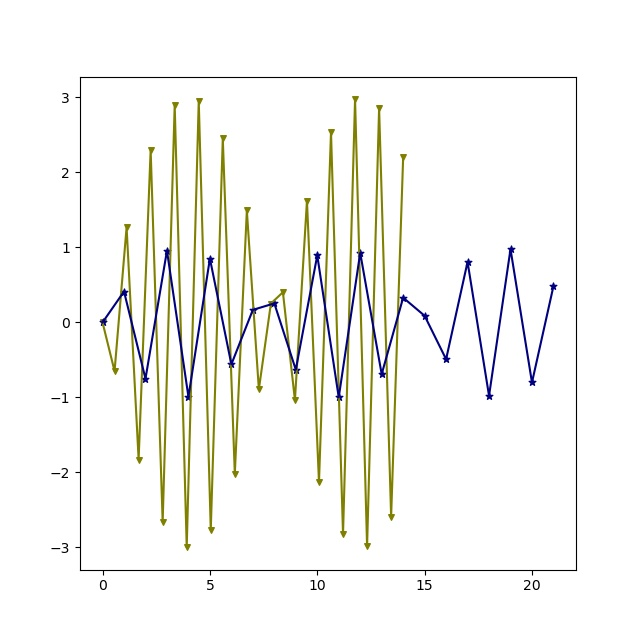star: (98, 318, 108, 328), (120, 287, 130, 297), (141, 374, 151, 384), (162, 246, 172, 256), (184, 392, 194, 402), (205, 254, 215, 264), (227, 360, 237, 370), (248, 305, 258, 315), (270, 299, 280, 309), (291, 365, 301, 375), (313, 251, 323, 261), (334, 393, 344, 403), (356, 248, 366, 258), (377, 370, 387, 380), (399, 293, 409, 303), (420, 311, 430, 321), (442, 355, 452, 365), (463, 257, 473, 267), (485, 391, 495, 401), (506, 245, 516, 255), (527, 378, 537, 388), (549, 282, 559, 292)
triangle_down: (99, 318, 108, 327), (111, 367, 120, 376), (123, 223, 132, 232), (135, 456, 144, 465), (147, 146, 156, 155), (159, 518, 168, 527), (171, 101, 180, 110), (183, 543, 192, 552), (195, 97, 204, 106), (207, 526, 216, 535), (219, 134, 228, 143), (231, 470, 240, 479), (243, 206, 252, 215), (255, 385, 264, 394), (267, 300, 276, 309), (279, 288, 288, 297), (291, 396, 300, 405), (303, 197, 312, 206), (315, 478, 324, 487), (327, 128, 336, 137), (339, 530, 348, 539), (351, 95, 360, 104), (363, 542, 372, 551), (375, 104, 384, 113), (387, 513, 396, 522), (399, 153, 408, 162)
